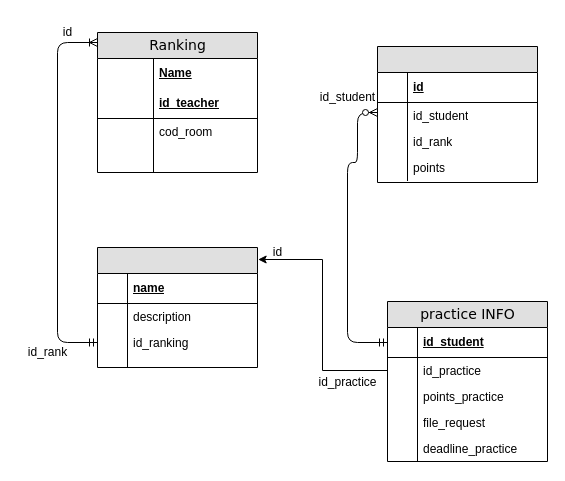
Image size: 565x481. Some labels were removed from this diagram. Each missing label, with the box of its shape:
Ranking Analyses: (376, 46, 538, 182)
Ranking practices: (96, 246, 258, 368)
